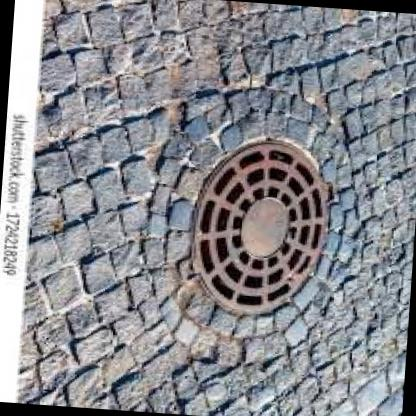manholes: (166, 106, 366, 361)
